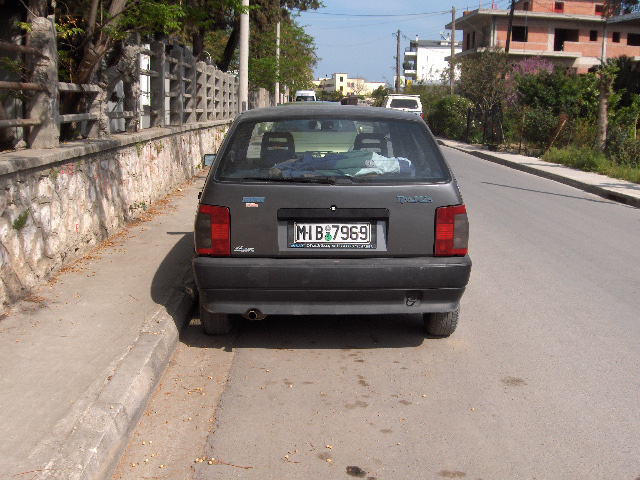licenseplate: (293, 222, 371, 244)
